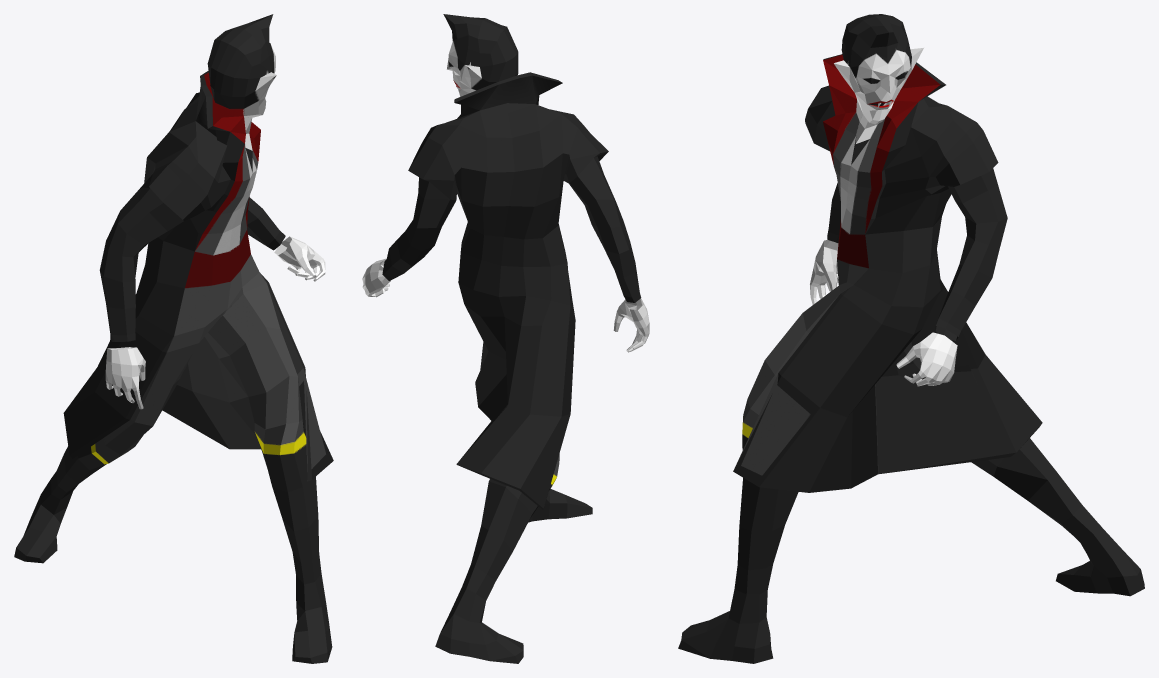
File: VampireIdle(33).obj
3 renders of one model, left to right at view 1: azimuth 30°, elevation 25°; view 2: azimuth 150°, elevation 25°; view 3: azimuth 270°, elevation 25°, orthographic. The views are drawn at different scales.
Visible parts, largest first — view 1: Plane002; view 2: Plane002; view 3: Plane002.
Boxes of the visible parts, box(x1,y1,x2,y2) form: Plane002: box(14, 14, 333, 663); Plane002: box(362, 14, 649, 663); Plane002: box(678, 14, 1144, 663).
Bounding box in the file's own units: 142 × 302 × 200.
